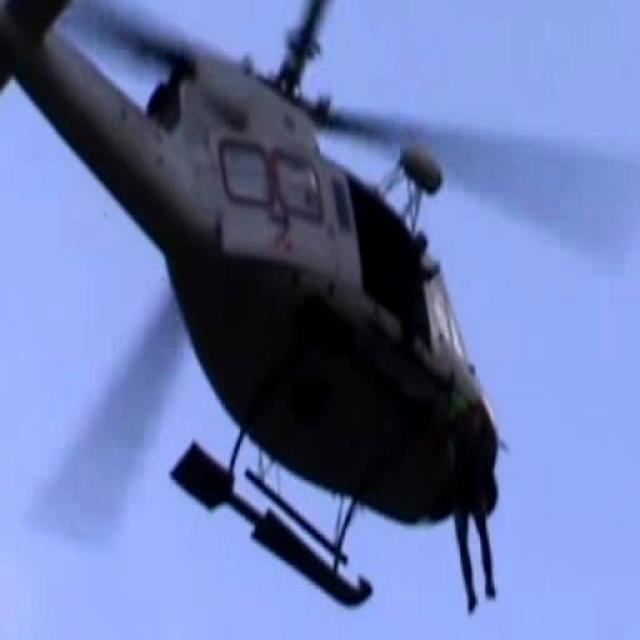drone: (0, 0, 621, 628)
